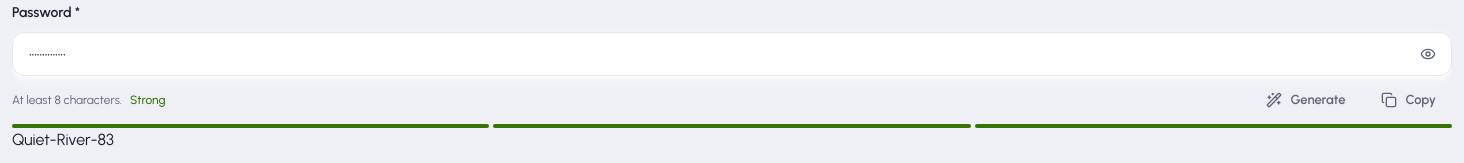
Test: PasswordField › if the clipboard is blocked the password is still visible to copy by hand
The image size is (1464, 163).
Click the button named "Show password".
click(1428, 54)  # box [1410,36,1446,72]
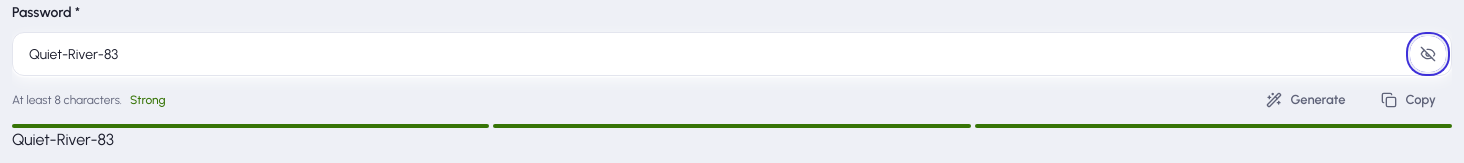
Click the button named "Hide password".
click(1428, 54)  # box [1410,36,1446,72]
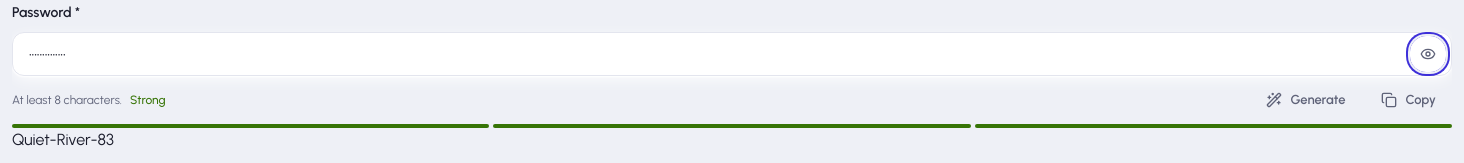
Now the password field labelled "Password *" hides its text, box [12,32,1452,76]
Click the button "Copy".
click(1409, 100)  # box [1366,82,1452,118]
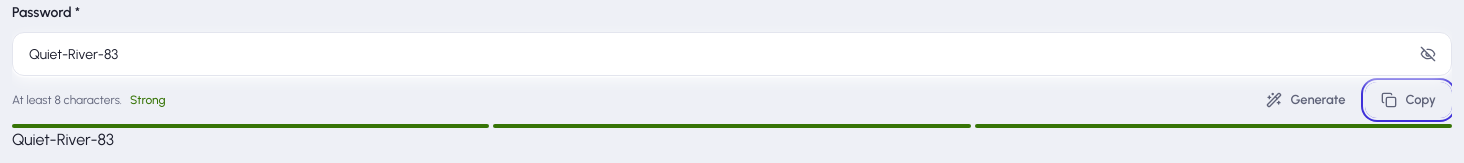
Now the field labelled "Password *" shows its text, box [12,32,1452,76]
